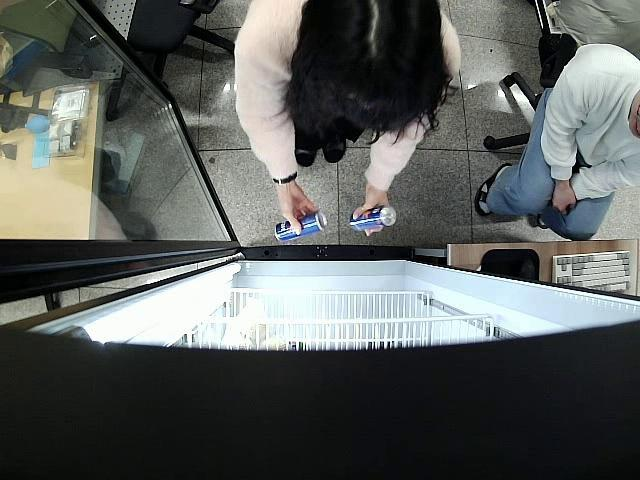16_hot6: (277, 212, 328, 243), (349, 207, 398, 232)
